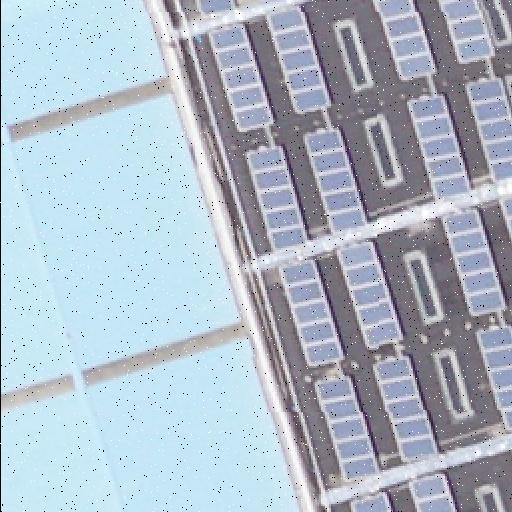solar-panel: (204, 24, 276, 136), (277, 255, 347, 369), (264, 3, 332, 117), (334, 238, 402, 350), (372, 356, 440, 468), (442, 208, 506, 320), (302, 128, 366, 236), (316, 374, 380, 482), (245, 144, 307, 252), (409, 94, 471, 202), (373, 0, 435, 84), (464, 76, 512, 184), (476, 325, 512, 435), (438, 0, 494, 68), (406, 472, 458, 512), (195, 1, 237, 23), (345, 492, 391, 512), (500, 195, 512, 237)
